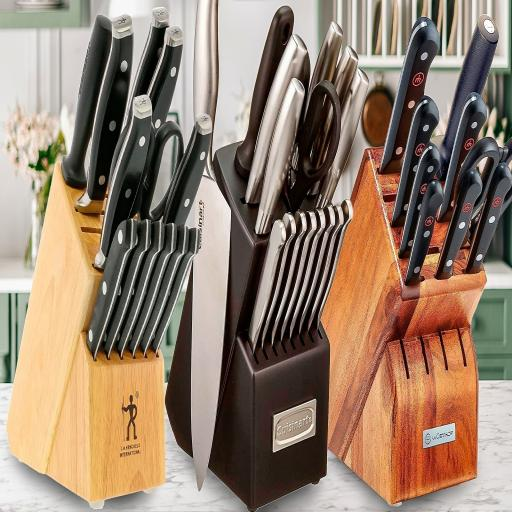knife: (188, 6, 233, 499)
